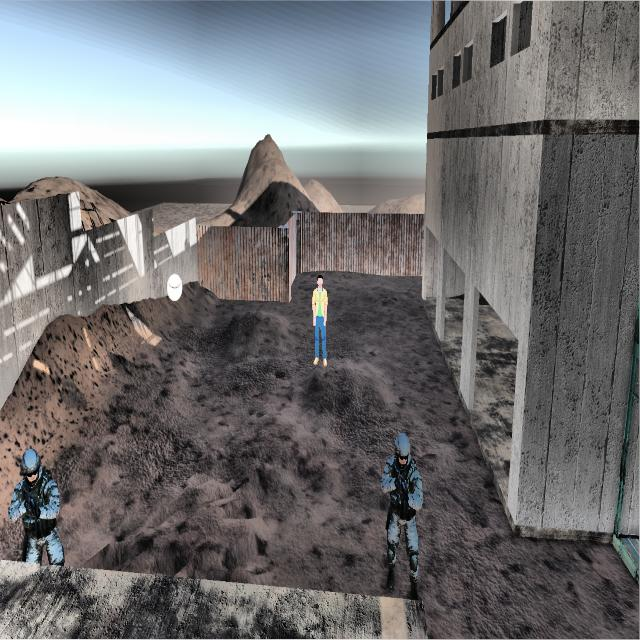bad: (373, 428, 428, 604), (1, 444, 67, 567)
good: (307, 267, 332, 373)
